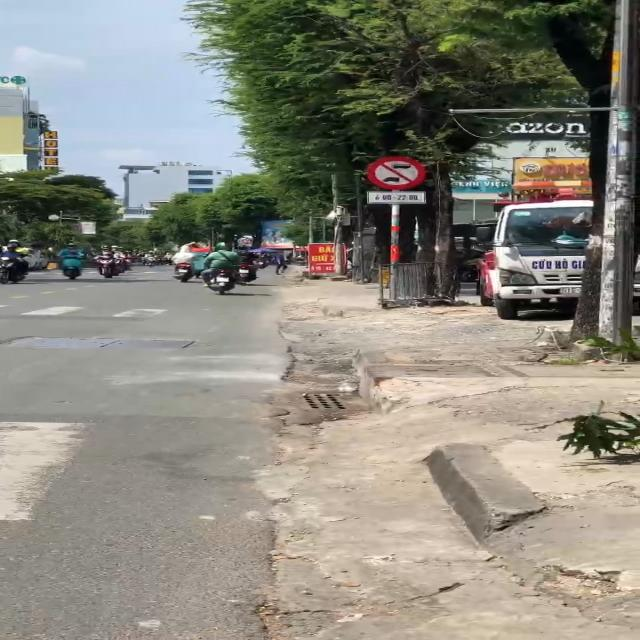Bien bao cam xe oto khach va xe oto tai: (361, 153, 427, 192)
